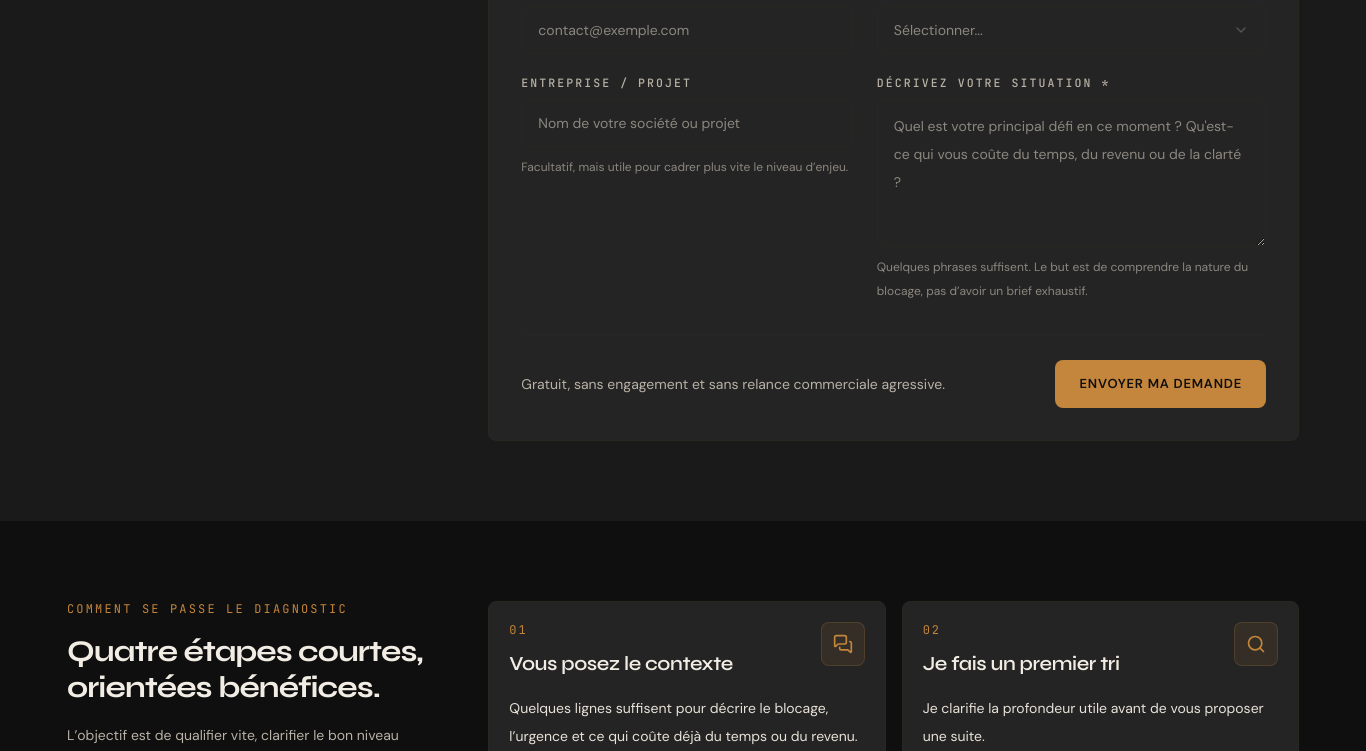
ContactPage › shows inline validation errors and focuses the first invalid field
(page scrolled)
Click the button "Envoyer ma demande": click(1161, 384) [1056,360,1266,408]
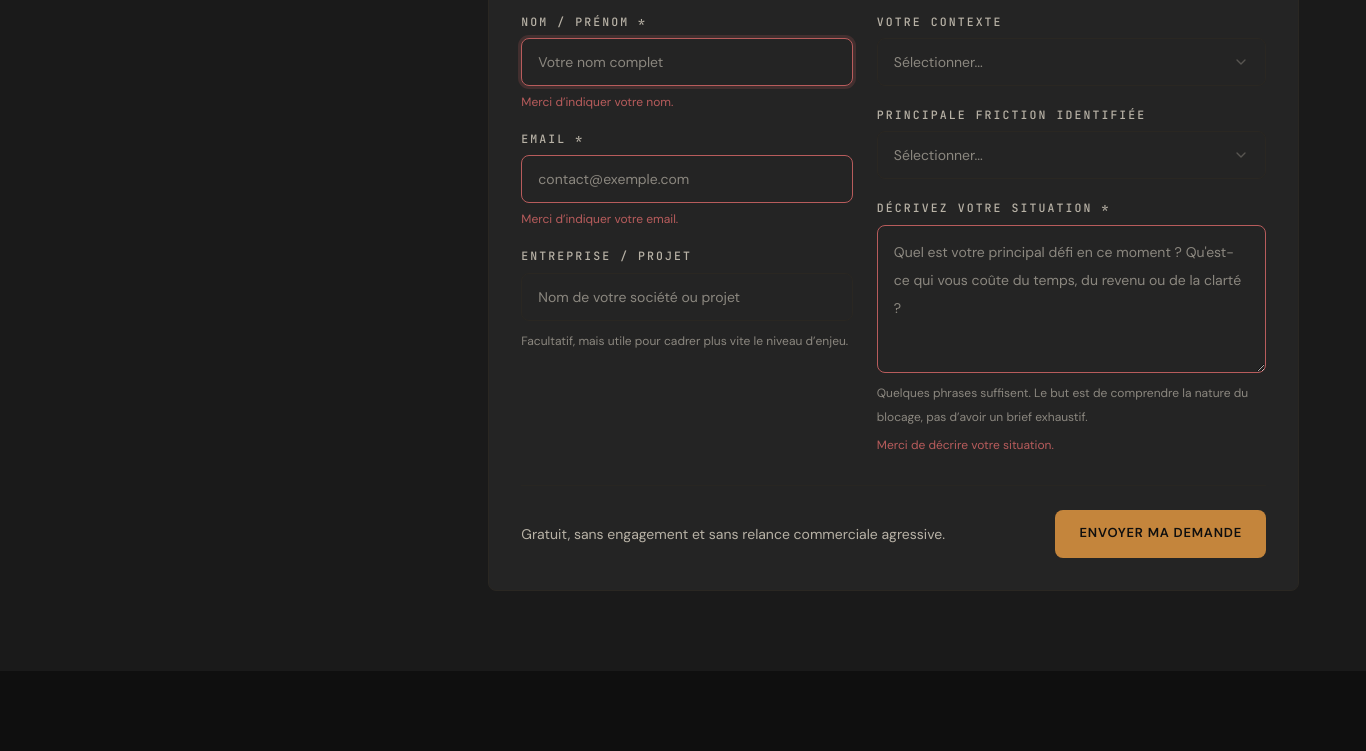
Expected: the text "Merci d’indiquer votre nom." is shown, [521,94,673,110]
Expected: the text "Merci d’indiquer votre email." is shown, [521,211,678,227]
Expected: the text "Merci de décrire votre situation." is shown, [877,437,1054,453]
